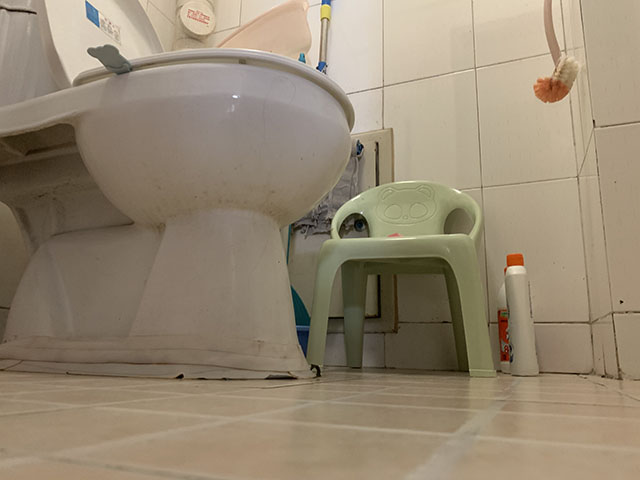closestool: (1, 1, 356, 383)
stool: (306, 178, 497, 378)
